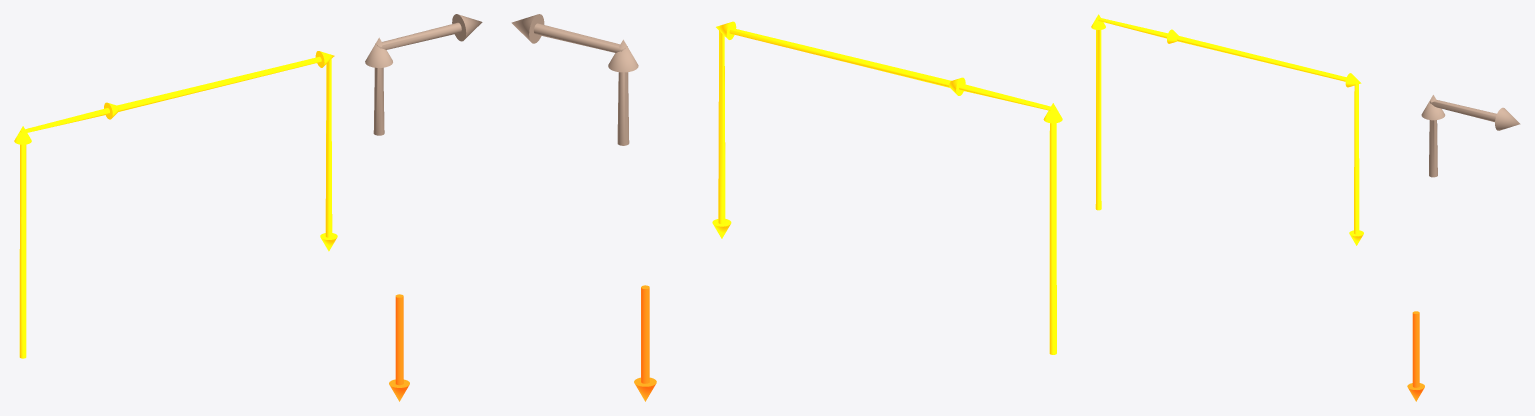
The model's file is electric_furnace_flow.glb.
3 renders of one model, left to right at view 1: azimuth 30°, elevation 25°; view 2: azimuth 150°, elevation 25°; view 3: azimuth 330°, elevation 25°, orthographic. The views are drawn at different scales.
Parts seen in each view (by area): view 1: power, fume_extraction, tapping; view 2: power, fume_extraction, tapping; view 3: power, fume_extraction, tapping.
Boxes of the visible parts, x1,y1,x2,y2 form: power: [14, 51, 337, 358]; fume_extraction: [365, 14, 482, 135]; tapping: [389, 294, 409, 401]; power: [712, 21, 1062, 354]; fume_extraction: [511, 14, 638, 145]; tapping: [634, 285, 656, 401]; power: [1091, 14, 1363, 245]; fume_extraction: [1421, 95, 1520, 177]; tapping: [1407, 311, 1424, 401].
Bounding box in the file's own units: 4.14 × 3.01 × 0.482.
